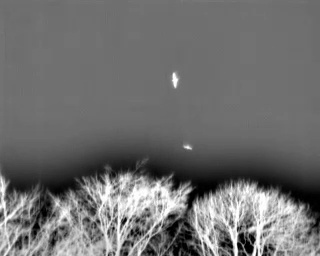BIRD: (181, 141, 195, 154)
